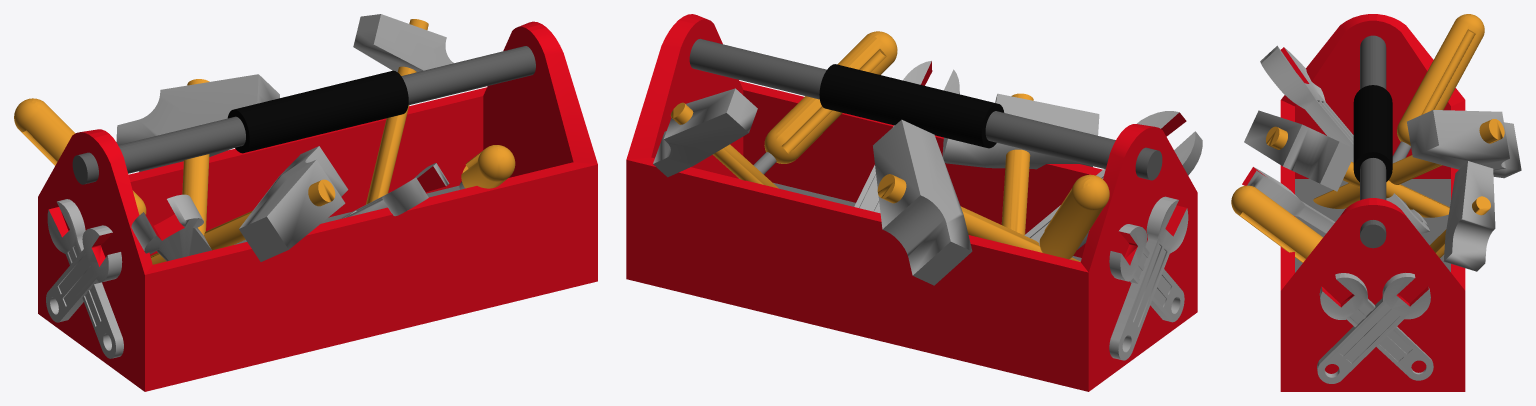
Rendered from toolbox.fbx.
3 views of the same model, side by side, from view 1: azimuth 30°, elevation 25°; view 2: azimuth 150°, elevation 25°; view 3: azimuth 270°, elevation 25° (orthographic). The views are drawn at different scales.
Visible parts, largest first — view 1: Cube; view 2: Cube; view 3: Cube.
Part boxes in pixels (x1,y1,x2,y2): Cube: [14, 14, 597, 391]; Cube: [626, 14, 1202, 391]; Cube: [1231, 14, 1521, 391].
Bounding box in the file's own units: 524 × 224 × 314.
